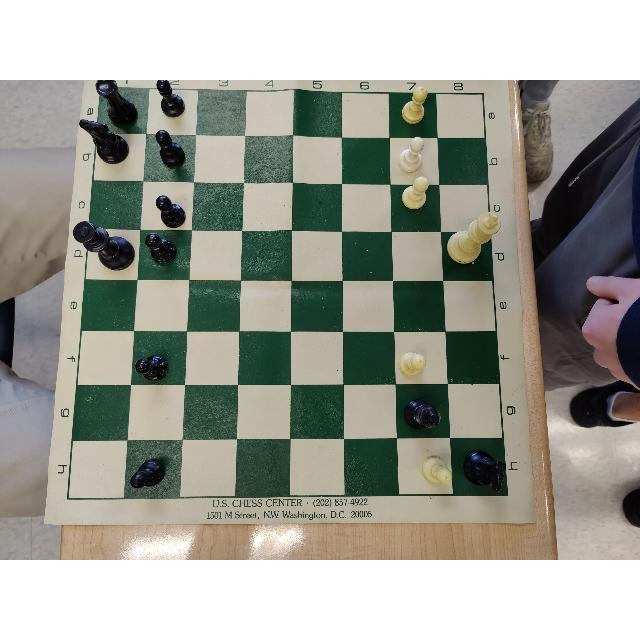black-bishop: (404, 397, 444, 431)
black-king: (72, 220, 136, 270)
black-knight: (79, 118, 129, 164), (464, 448, 508, 496)
black-pawn: (155, 130, 186, 170), (130, 458, 166, 490), (156, 81, 185, 117), (135, 353, 169, 383), (146, 234, 177, 266), (156, 196, 185, 228)
black-rook: (96, 80, 138, 126)
white-king: (446, 210, 501, 264)
white-pawn: (398, 136, 426, 174), (400, 86, 427, 125), (422, 454, 453, 485), (402, 176, 430, 209), (399, 350, 426, 377)
